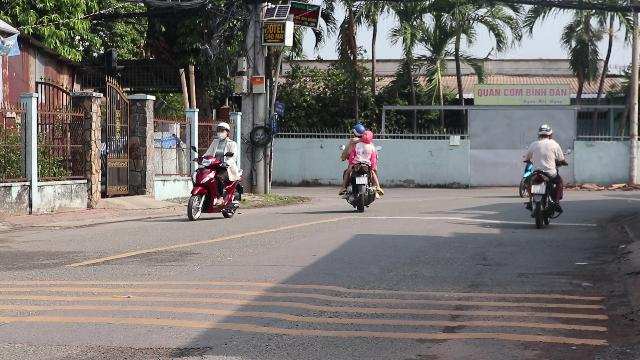helmet: (536, 123, 552, 139), (214, 122, 230, 138)
licenseplate: (530, 184, 546, 194)
motorcyclist: (184, 120, 243, 222), (519, 123, 565, 225)
